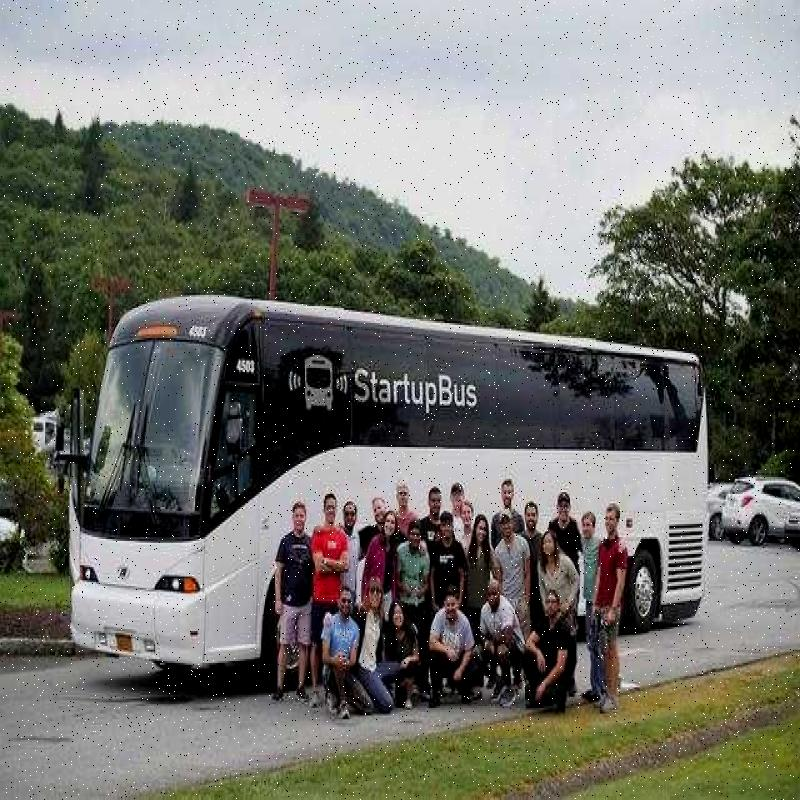bus: (48, 253, 728, 669)
